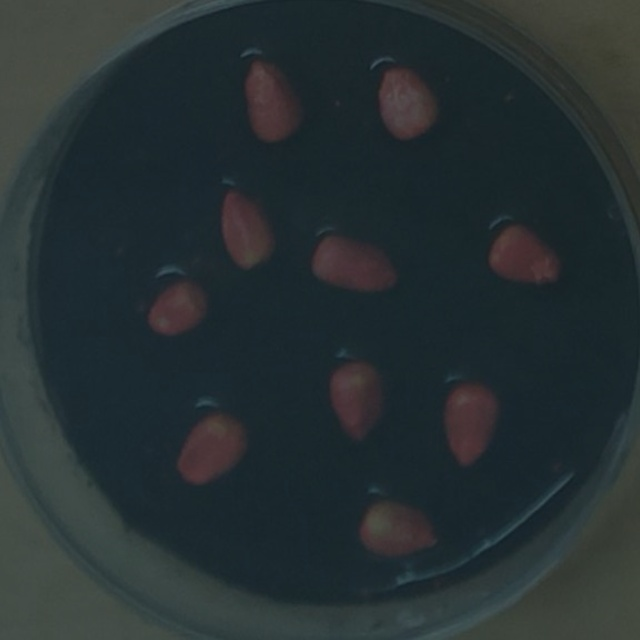Zea mays: (303, 220, 406, 304), (166, 405, 255, 495), (235, 50, 313, 152), (369, 56, 448, 151), (436, 373, 507, 478), (352, 492, 448, 569), (479, 214, 569, 296), (321, 355, 394, 453), (213, 182, 284, 280), (141, 273, 219, 345)
